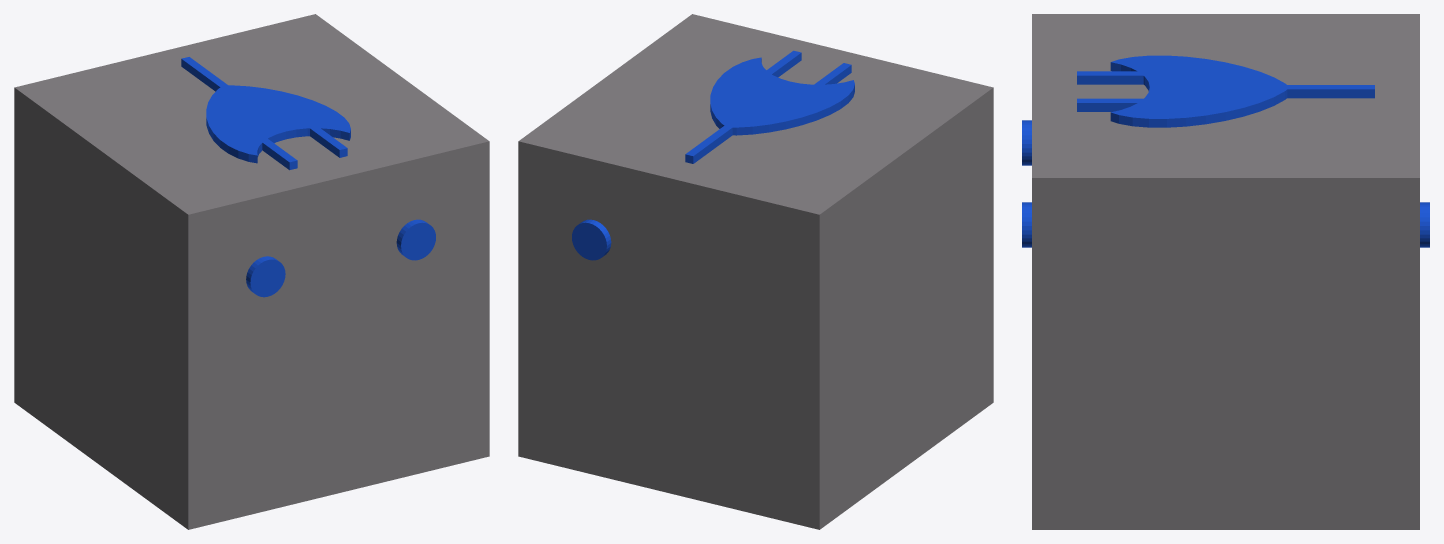
File: OR_gate.fbx
3 views of the same model, side by side, from view 1: azimuth 30°, elevation 25°; view 2: azimuth 150°, elevation 25°; view 3: azimuth 270°, elevation 25° (orthographic). The views are drawn at different scales.
Parts seen in each view (by area): view 1: Cube, Cube.004, Cylinder.002, Cylinder.001, Cube.003, Cube.002, Cube.001; view 2: Cube, Cube.004, Cylinder.003, Cube.003; view 3: Cube, Cube.004, Cube.003, Cube.001, Cube.002.
Part boxes in pixels (<box>): Cube: <box>14,14,489,529</box>; Cube.004: <box>206,85,350,163</box>; Cylinder.002: <box>246,256,285,297</box>; Cylinder.001: <box>396,219,435,260</box>; Cube.003: <box>181,57,234,92</box>; Cube.002: <box>244,127,297,170</box>; Cube.001: <box>295,114,347,157</box>; Cube: <box>518,14,993,529</box>; Cube.004: <box>710,57,854,135</box>; Cylinder.003: <box>572,219,611,260</box>; Cube.003: <box>685,120,739,163</box>; Cube: <box>1032,14,1419,529</box>; Cube.004: <box>1110,55,1287,127</box>; Cube.003: <box>1271,85,1374,98</box>; Cube.001: <box>1077,98,1180,111</box>; Cube.002: <box>1077,71,1143,84</box>.
Bounding box in the file's own units: 600 × 615 × 630.
